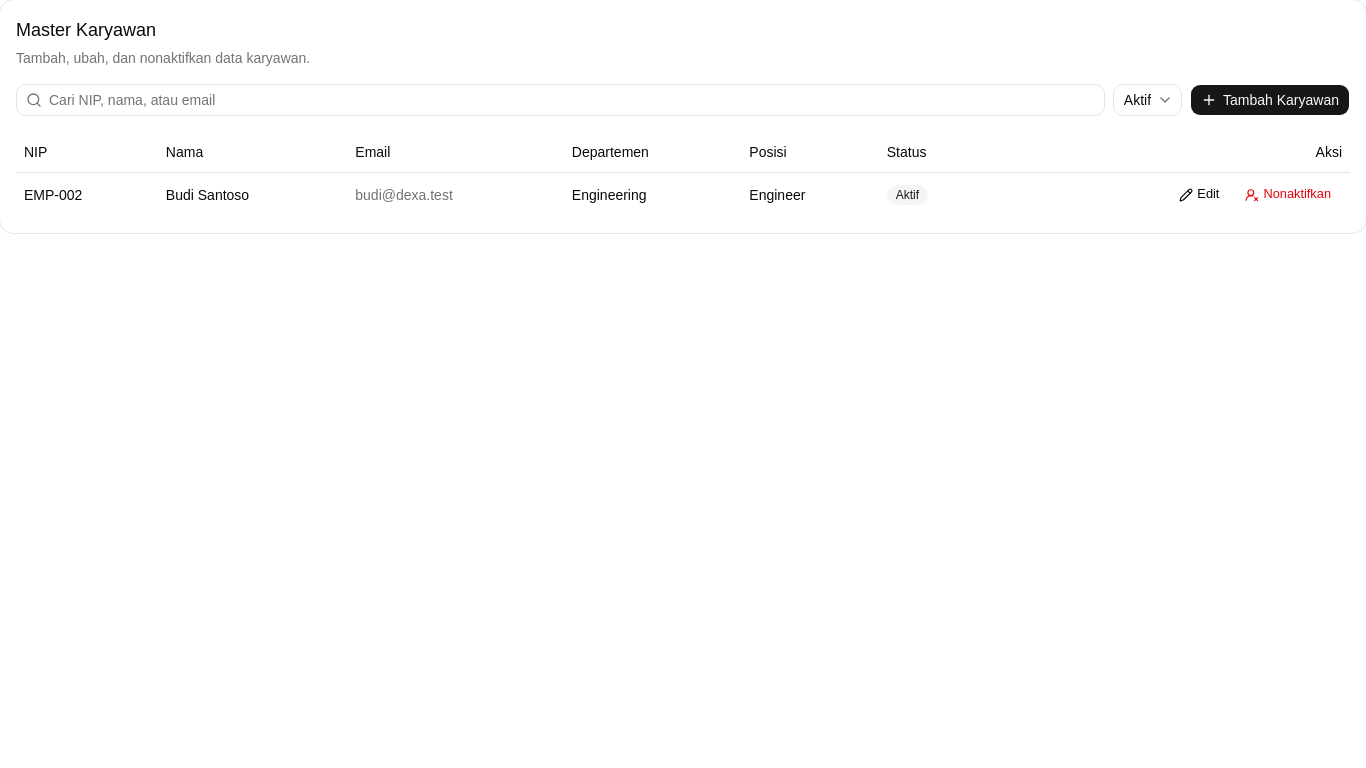
Test case: EmployeesPage › updates an employee through the edit dialog and refreshes the list
This screenshot has width=1366, height=768.
Expected: the text "Budi Santoso" is shown, [158, 172, 347, 216]
Click the button with aria-label "Edit Budi Santoso": (1199, 194) [1168, 180, 1230, 208]
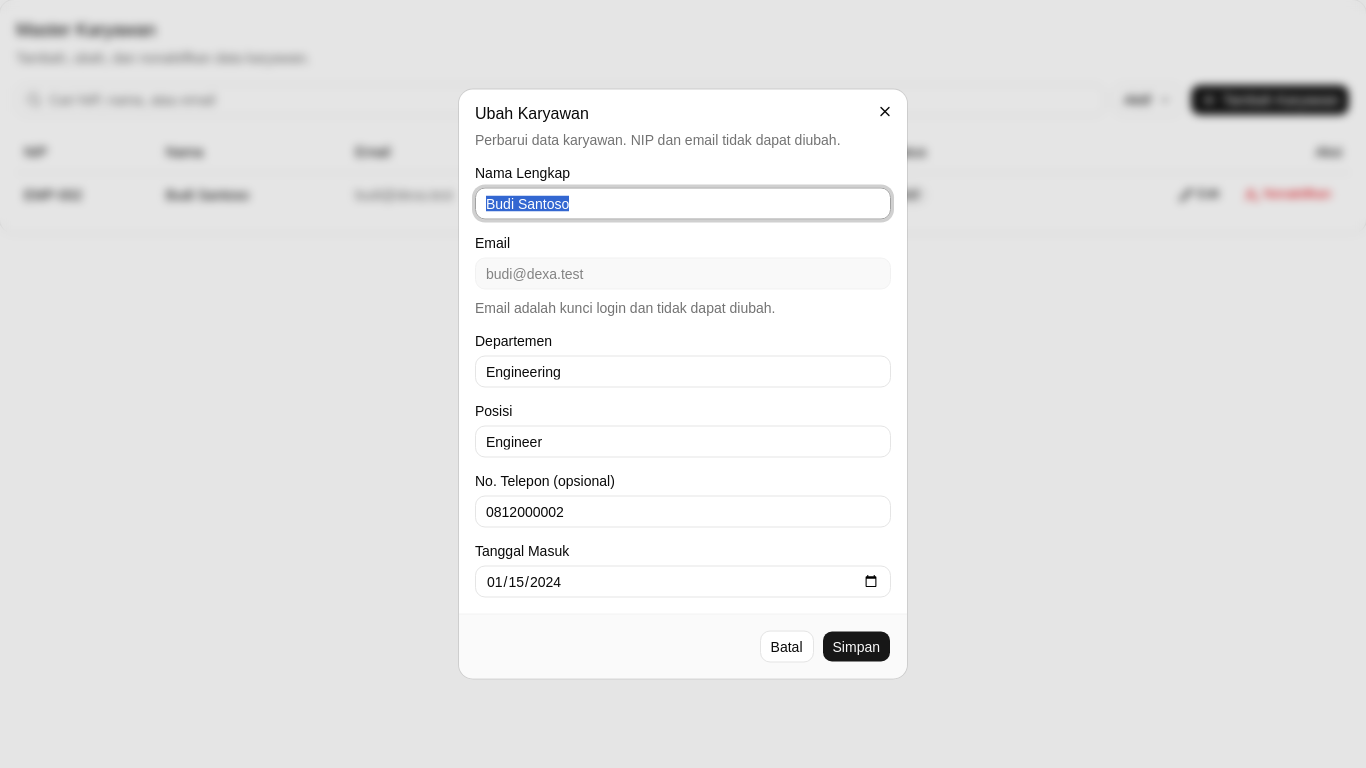
Expected: the dialog is shown, [459, 90, 907, 678]
Expected: the heading "Ubah Karyawan" is shown, [475, 104, 589, 122]
Expected: the field labelled "Email" holds "budi@dexa.test", [475, 258, 891, 290]
Replace the text in the field labelled "Departemen" with "Product": (683, 372) [475, 356, 891, 388]
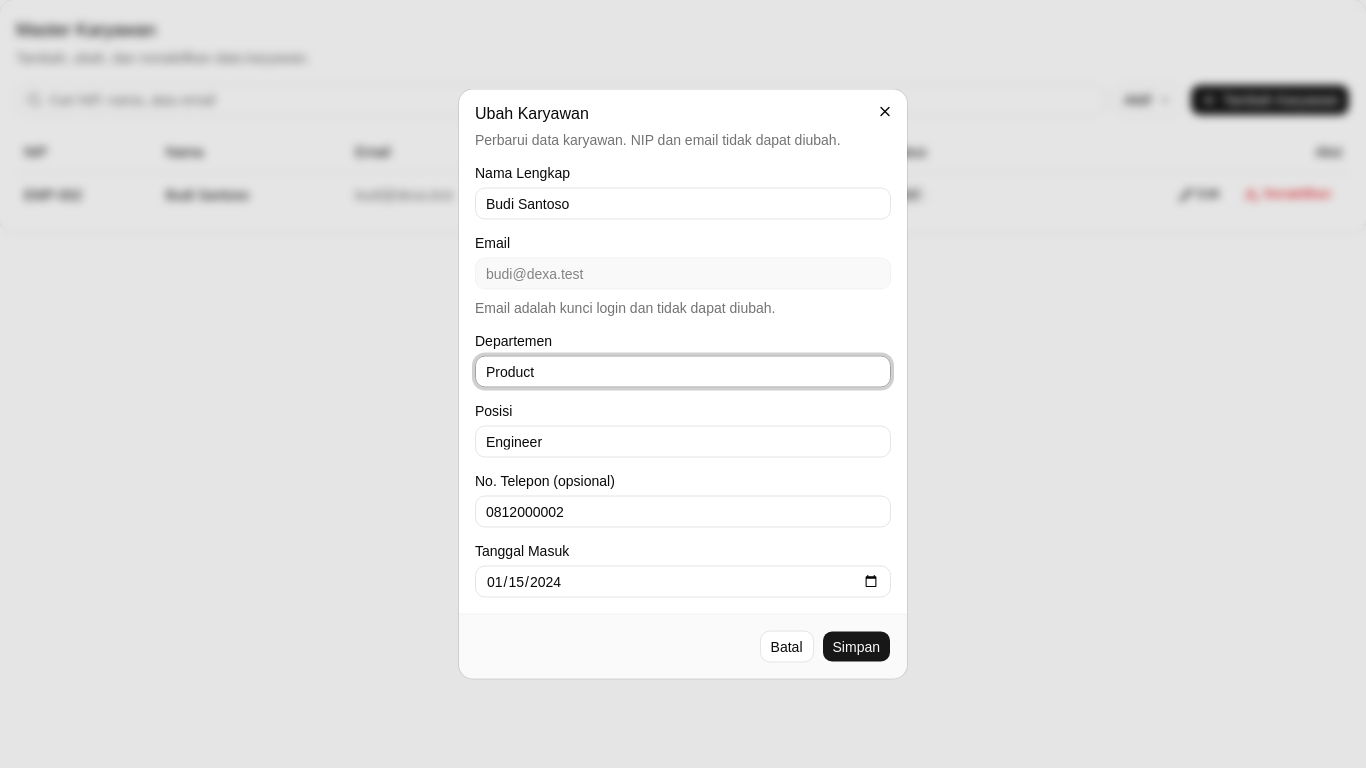
Replace the text in the field labelled "Posisi" with "Staff": (683, 442) [475, 426, 891, 458]
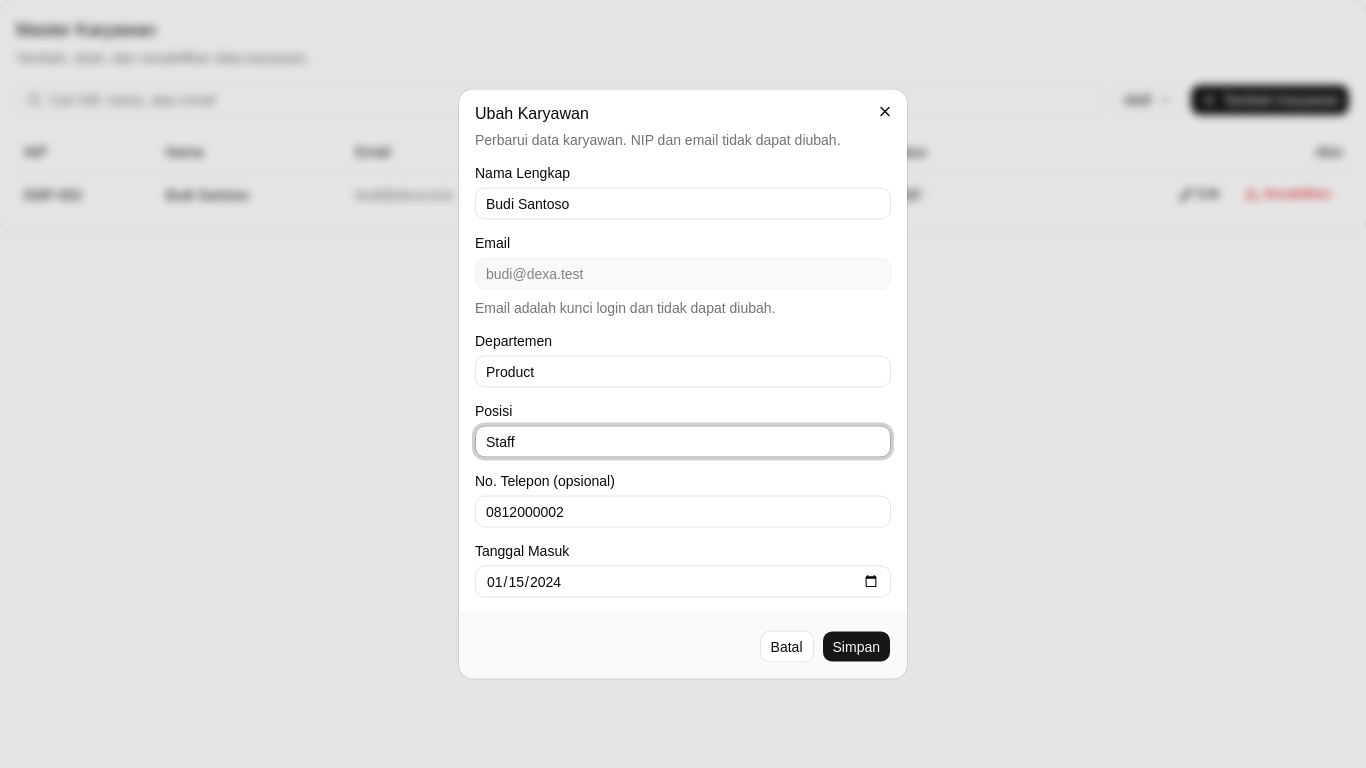
Click the button "Simpan": (856, 646) [822, 630, 891, 662]
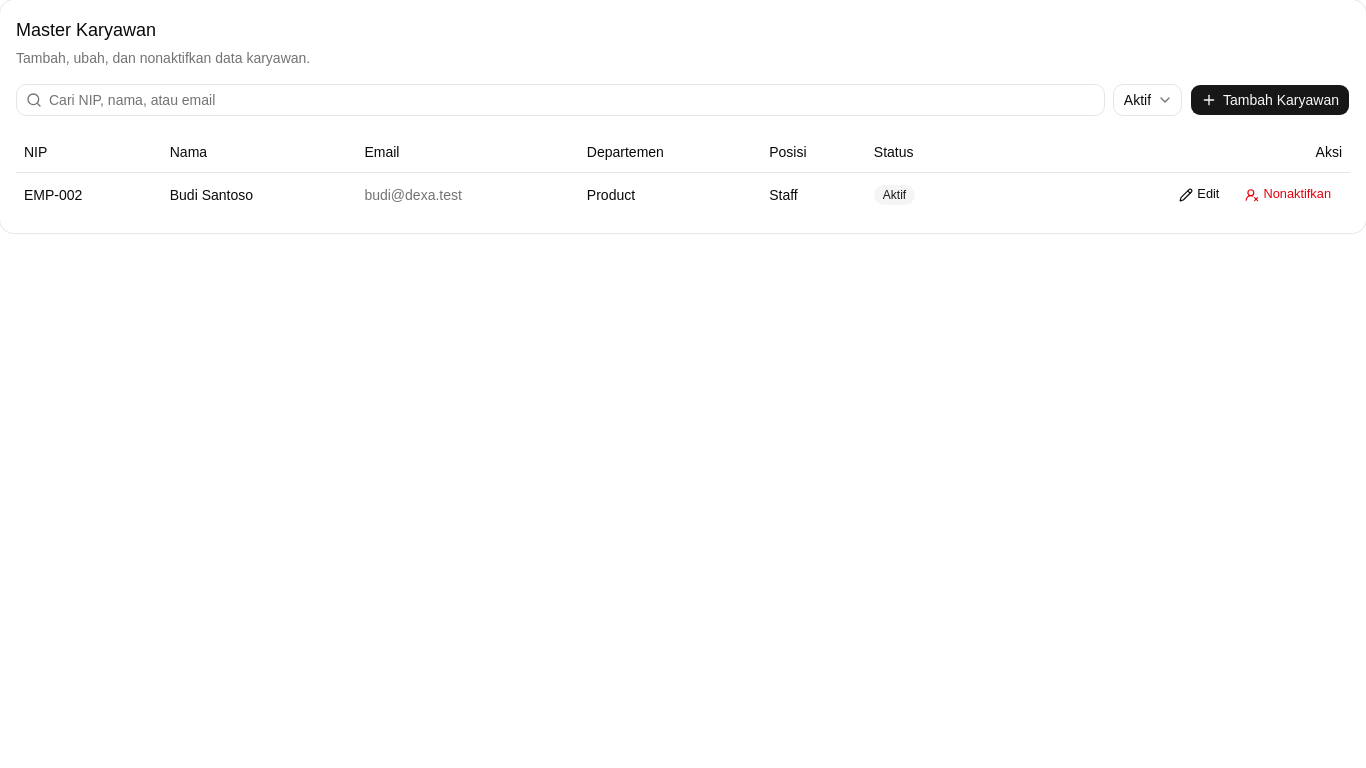
Expected: the text "Product" is shown, [579, 172, 761, 216]
Expected: the dialog is gone
